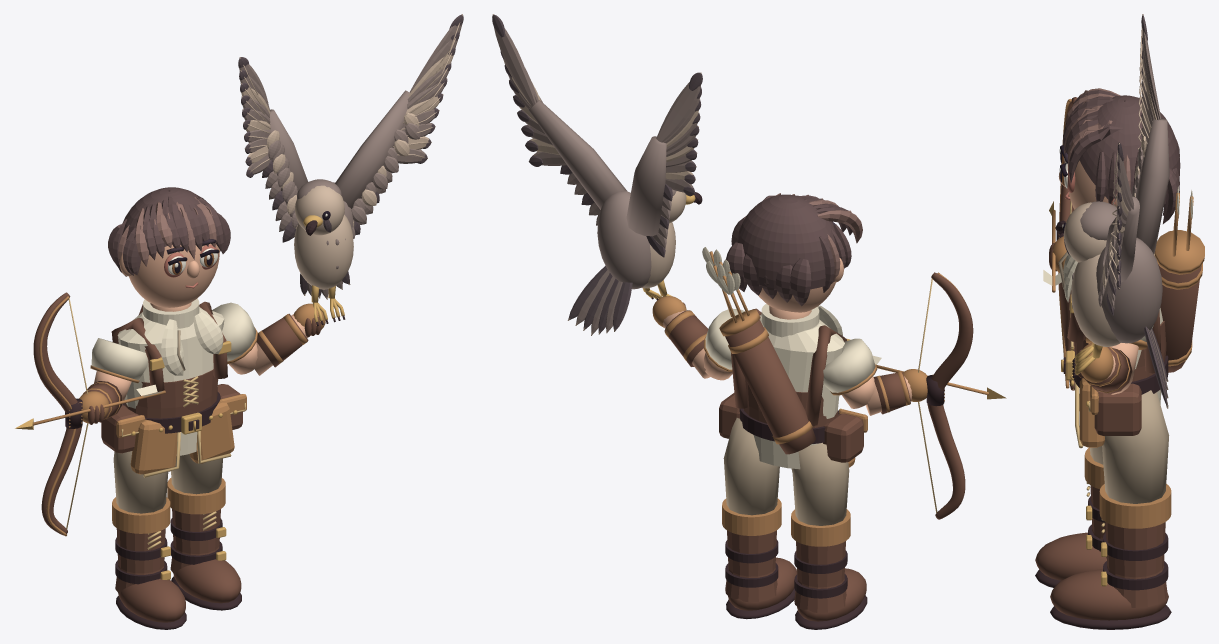
File: classic_hunter_parts.glb
3 views of the same model, side by side, from view 1: azimuth 30°, elevation 25°; view 2: azimuth 150°, elevation 25°; view 3: azimuth 270°, elevation 25° (orthographic). The views are drawn at different scales.
Parts seen in each view (by area): view 1: torso, head, legL, legR, wingR, falcon, wingL, weapon, armR, armL; view 2: torso, head, legL, legR, falcon, wingL, wingR, weapon, armR, armL; view 3: legR, torso, falcon, head, wingL, legL, wingR, armR, weapon, armL.
Boxes of the visible parts, x1=… form: torso: x1=91, y1=298, x2=256, y2=477; head: x1=108, y1=187, x2=230, y2=307; legL: x1=112, y1=451, x2=186, y2=629; legR: x1=167, y1=454, x2=241, y2=610; wingR: x1=335, y1=14, x2=463, y2=238; falcon: x1=294, y1=179, x2=354, y2=326; wingL: x1=238, y1=57, x2=307, y2=242; weapon: x1=15, y1=292, x2=165, y2=536; armR: x1=227, y1=303, x2=325, y2=375; armL: x1=79, y1=365, x2=139, y2=424; torso: x1=702, y1=247, x2=875, y2=469; head: x1=726, y1=193, x2=862, y2=312; legL: x1=791, y1=442, x2=867, y2=629; legR: x1=722, y1=418, x2=797, y2=619; falcon: x1=567, y1=189, x2=702, y2=335; wingL: x1=626, y1=72, x2=702, y2=257; wingR: x1=492, y1=14, x2=627, y2=225; weapon: x1=873, y1=272, x2=1006, y2=519; armR: x1=652, y1=296, x2=732, y2=380; armL: x1=830, y1=364, x2=928, y2=415; legR: x1=1050, y1=390, x2=1171, y2=629; torso: x1=1058, y1=186, x2=1204, y2=448; falcon: x1=1055, y1=201, x2=1168, y2=408; head: x1=1058, y1=88, x2=1180, y2=223; wingL: x1=1131, y1=14, x2=1169, y2=254; legL: x1=1035, y1=446, x2=1106, y2=587; wingR: x1=1098, y1=142, x2=1139, y2=315; armR: x1=1078, y1=337, x2=1147, y2=394; weapon: x1=1043, y1=97, x2=1077, y2=390; armL: x1=1049, y1=236, x2=1066, y2=272.
Size of the model in its own units: 2.07 by 2.15 by 0.5222.
